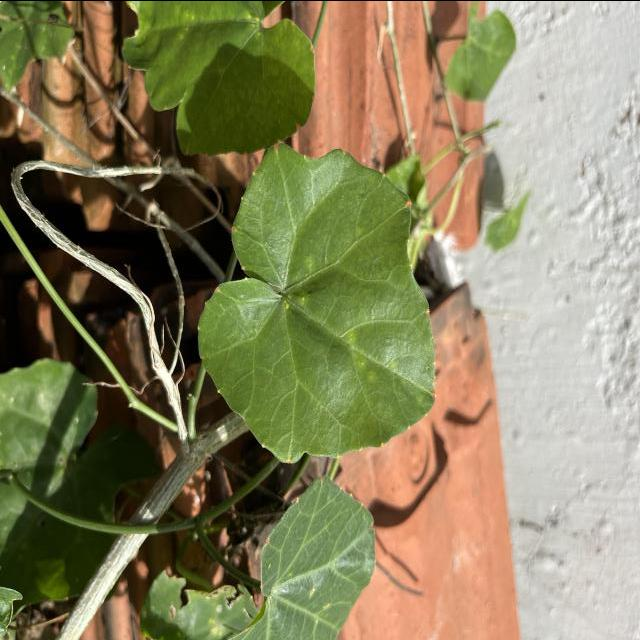Coccinia grandis: (195, 140, 438, 464)
